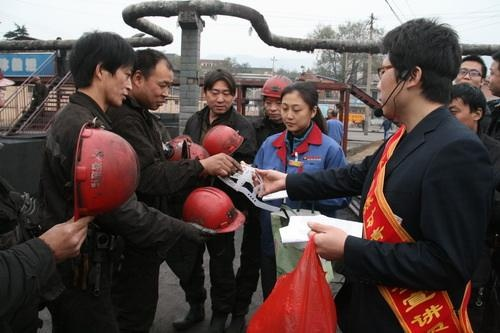none: (372, 14, 461, 125), (66, 28, 135, 112), (126, 45, 175, 113), (276, 80, 321, 134), (446, 82, 486, 136), (200, 64, 240, 115), (455, 52, 488, 94)
red: (258, 73, 293, 122)
